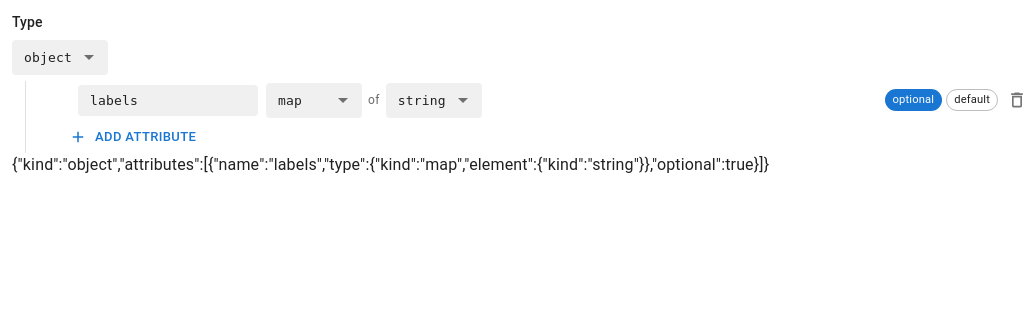
Scenario: TypeEditor › edits structured defaults for optional nested attributes
The width and height of the screenshot is (1036, 314).
Click the button "default": [972, 100] box left=946, top=90, right=998, bottom=112
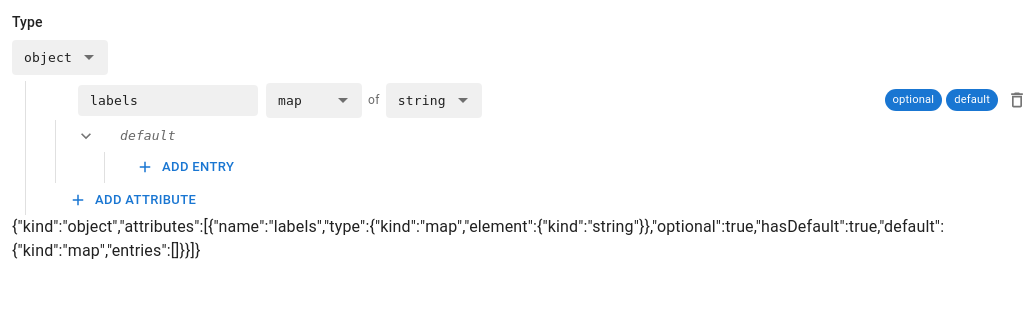
Click the button "Add entry": [186, 167] box left=133, top=152, right=239, bottom=183
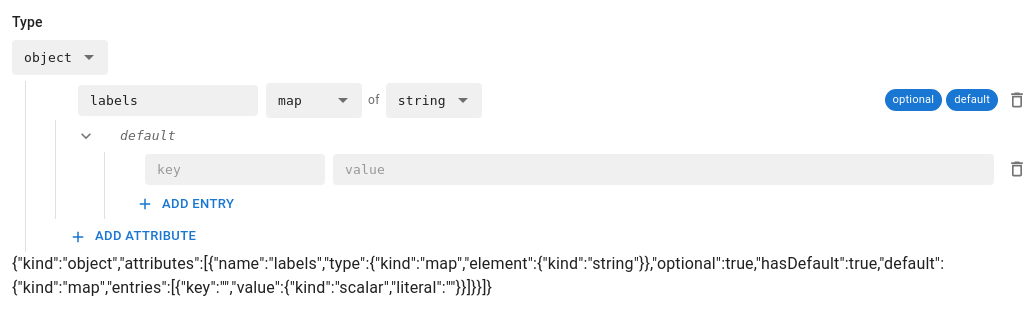
In the field labelled "key": [235, 169] box left=145, top=154, right=325, bottom=185, type "team"
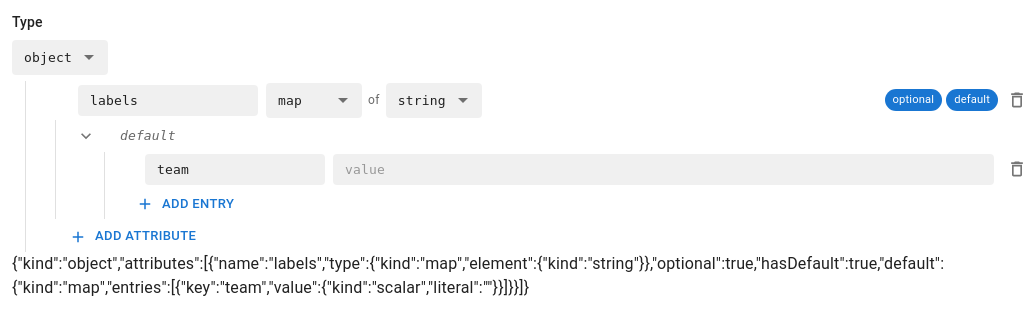
In the field with placeholder "value": [664, 169] box left=333, top=154, right=994, bottom=185, type "platform"
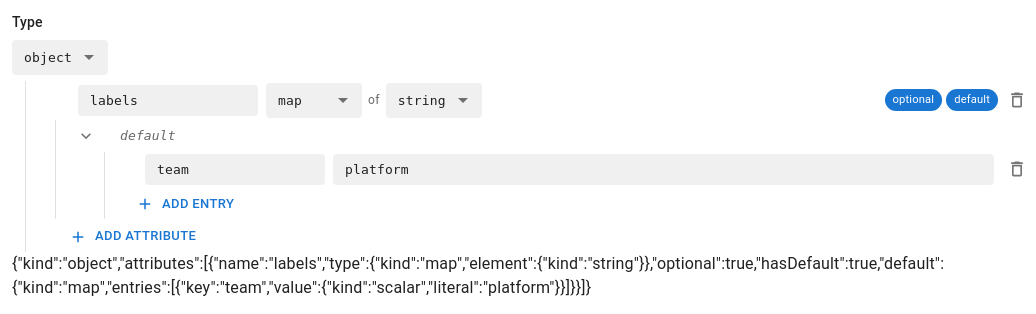
Check: the text with test id "value" shows "\"hasDefault\":true", box left=12, top=254, right=944, bottom=297
Check: the text with test id "value" shows "\"key\":\"team\"", box left=12, top=254, right=944, bottom=297
Check: the text with test id "value" shows "\"literal\":\"platform\"", box left=12, top=254, right=944, bottom=297
